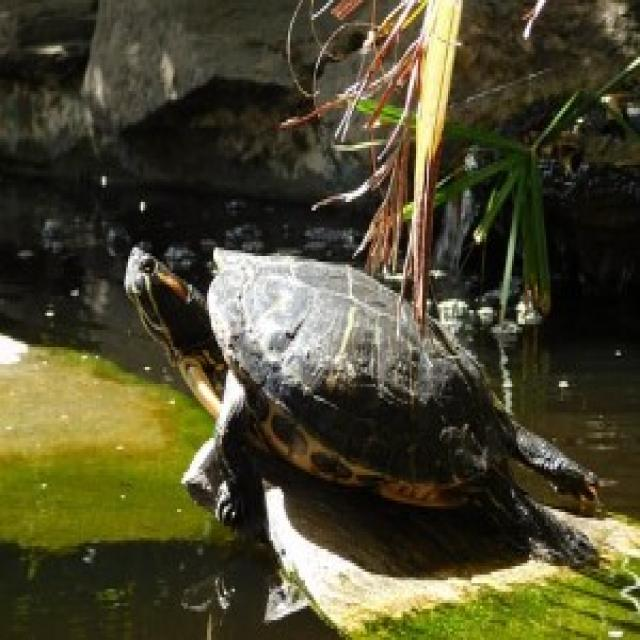Sea turtle: (102, 225, 614, 552)
